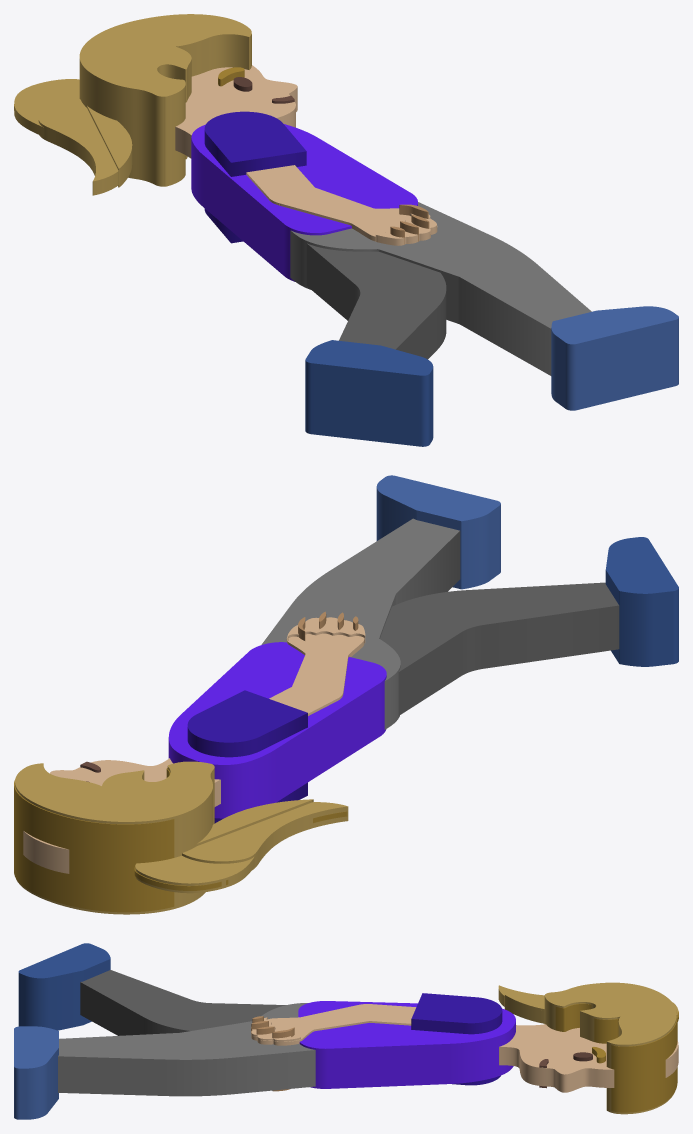
File: emoji_u1f6b6_1f3fc_200d_2640_200d_27a1.glb
3 renders of one model, top to bottom at view 1: azimuth 30°, elevation 25°; view 2: azimuth 150°, elevation 25°; view 3: azimuth 270°, elevation 25°, orthographic. The views are drawn at different scales.
Parts seen in each view (by area): view 1: emoji_u1f6b6_1f3fc_200d_2640_200d_27a1; view 2: emoji_u1f6b6_1f3fc_200d_2640_200d_27a1; view 3: emoji_u1f6b6_1f3fc_200d_2640_200d_27a1.
Part boxes in pixels (x1=…): emoji_u1f6b6_1f3fc_200d_2640_200d_27a1: x1=14, y1=14, x2=678, y2=446; emoji_u1f6b6_1f3fc_200d_2640_200d_27a1: x1=14, y1=475, x2=678, y2=914; emoji_u1f6b6_1f3fc_200d_2640_200d_27a1: x1=14, y1=943, x2=678, y2=1119.
Bounding box in the file's own units: 0.0145 × 0.0038 × 0.033.
